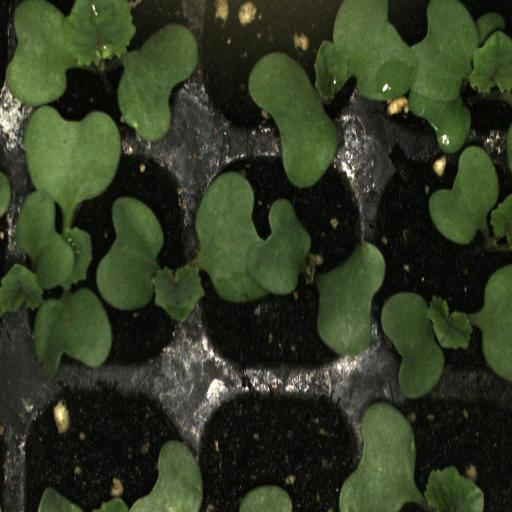Folha: (339, 402, 484, 512)
Germinacao: (3, 150, 193, 382), (198, 150, 366, 371), (367, 151, 512, 380), (13, 0, 195, 148), (195, 0, 374, 146), (372, 0, 512, 142)
